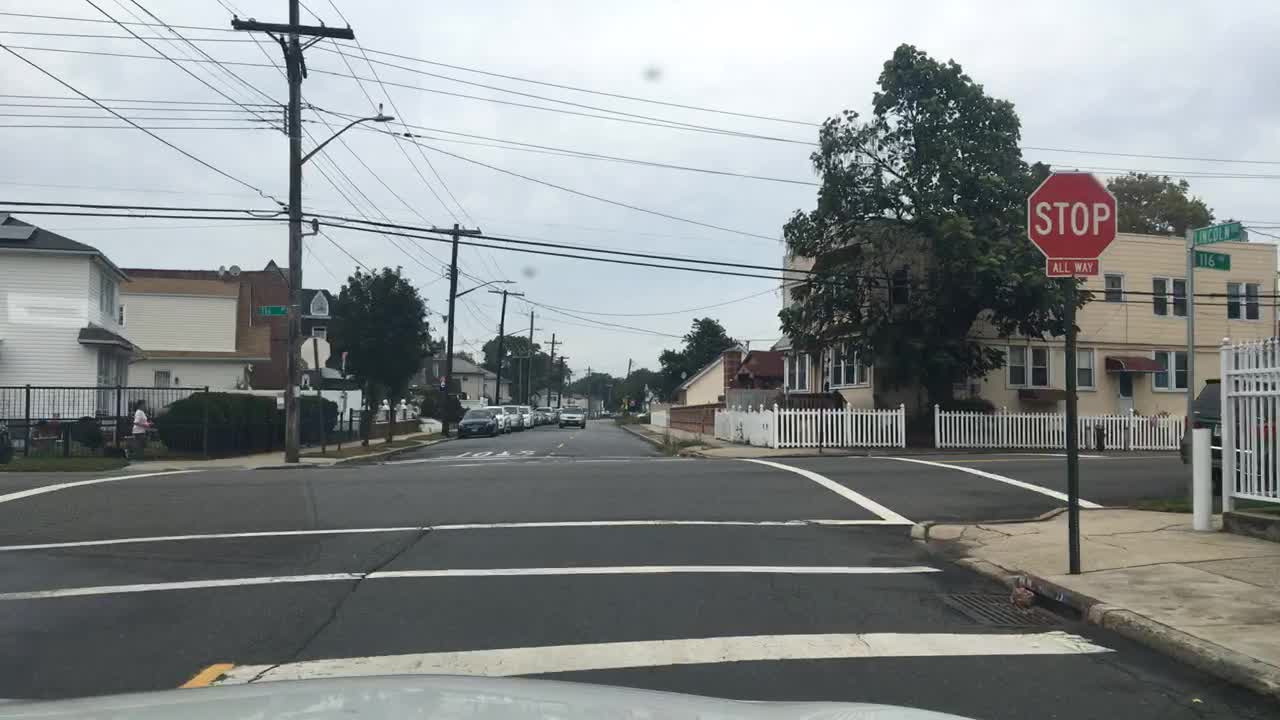car: (456, 408, 498, 437), (482, 405, 510, 433), (557, 403, 584, 425), (503, 404, 523, 429), (516, 405, 535, 428), (636, 406, 651, 418), (609, 409, 625, 420), (529, 391, 540, 404), (557, 403, 566, 411), (551, 403, 557, 412)
person: (130, 398, 152, 460), (544, 406, 556, 425), (530, 407, 543, 423)
traffic sign: (1022, 171, 1118, 256), (1042, 256, 1103, 277), (299, 334, 331, 368), (1192, 247, 1232, 271), (1190, 222, 1241, 240), (255, 306, 288, 317)
